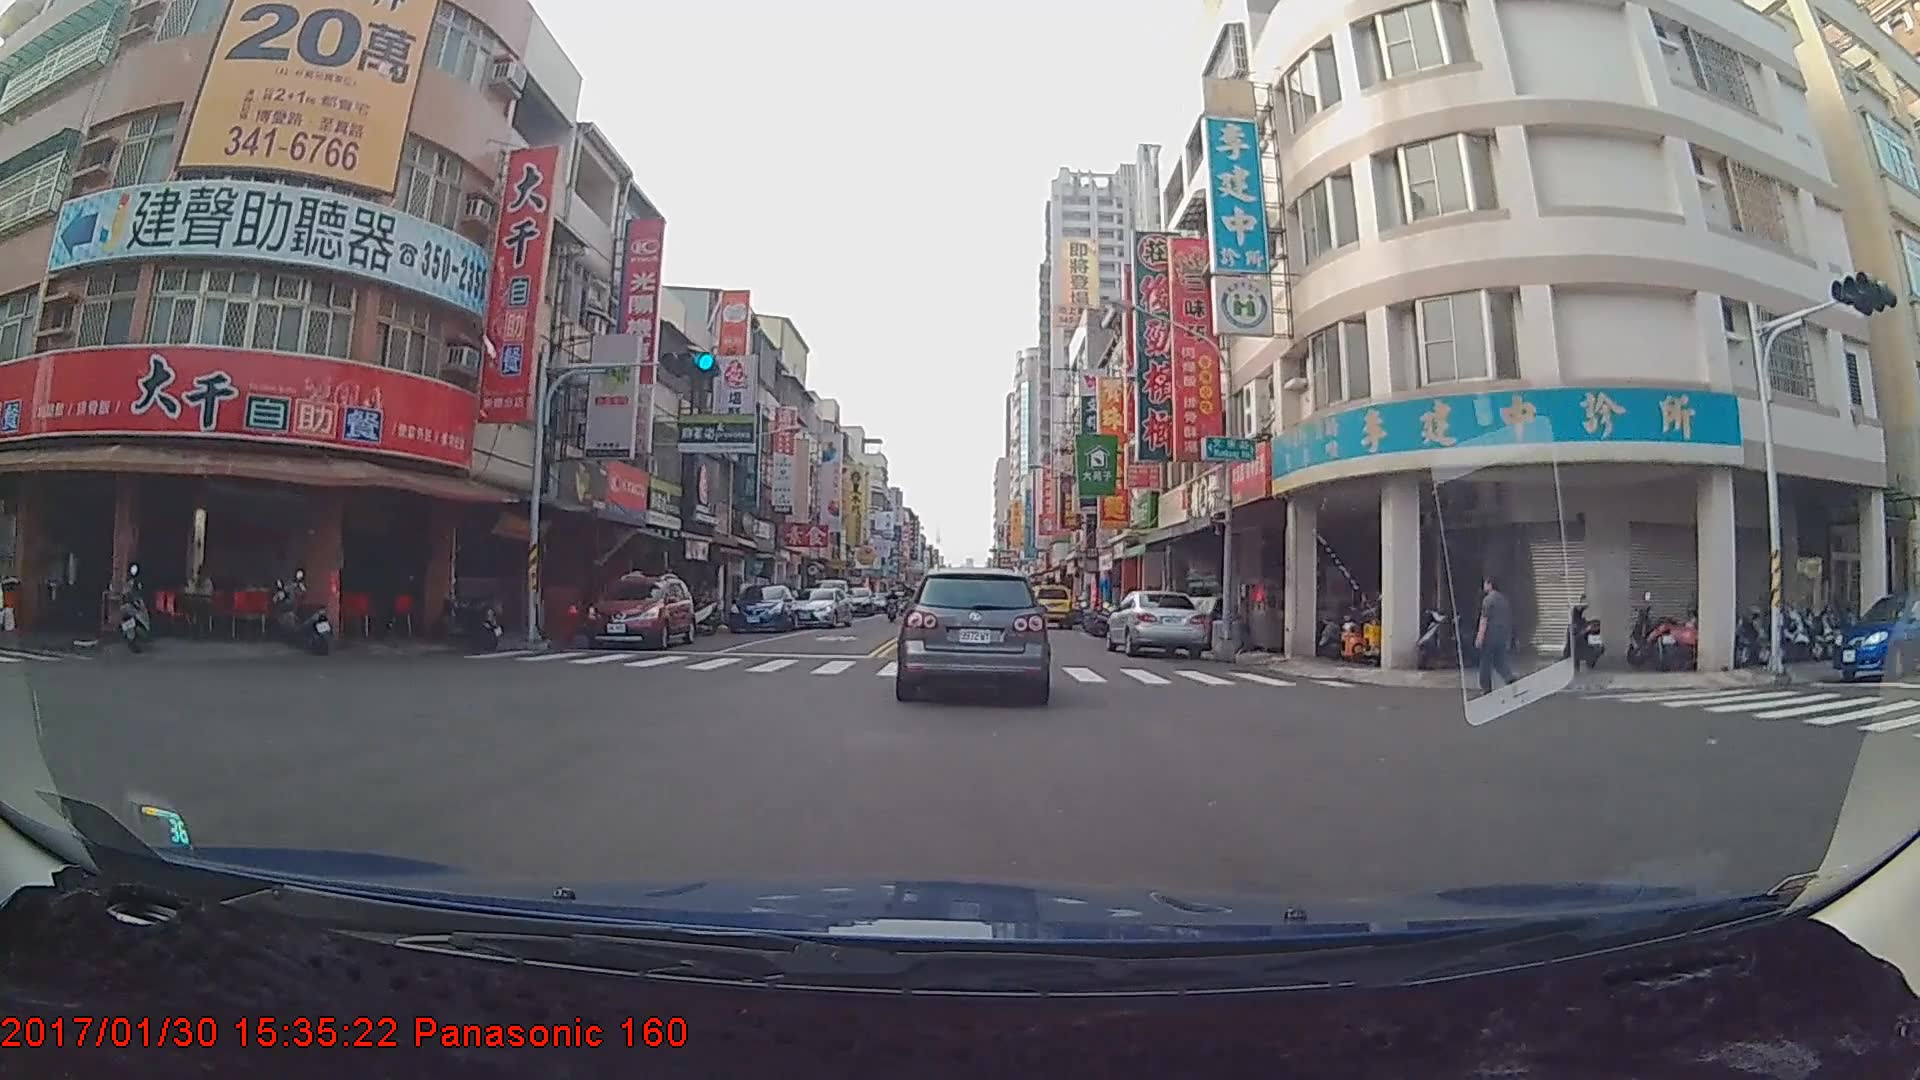pedestrian: (1473, 575, 1518, 705)
vehicle: (900, 566, 1047, 703), (1829, 590, 1920, 681), (587, 574, 694, 649), (1107, 588, 1210, 659), (725, 584, 798, 634), (789, 586, 853, 630), (1028, 581, 1073, 630)
